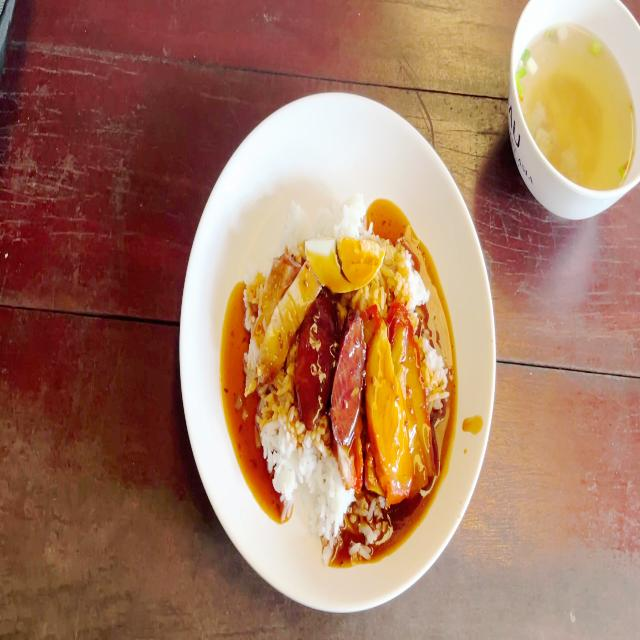boiled_egg: (303, 236, 388, 288)
chainese_sausage: (300, 298, 362, 433), (302, 292, 341, 433), (328, 321, 364, 437)
crispy_pork: (243, 253, 315, 380), (245, 250, 292, 370), (258, 275, 316, 371)
red_pork: (368, 316, 432, 482), (368, 316, 407, 496), (399, 308, 434, 481), (336, 444, 366, 491)
red_pork_and_crispy_pork: (243, 192, 448, 558)
rice: (260, 381, 299, 494), (301, 442, 342, 539), (383, 238, 424, 316), (287, 197, 368, 236)
